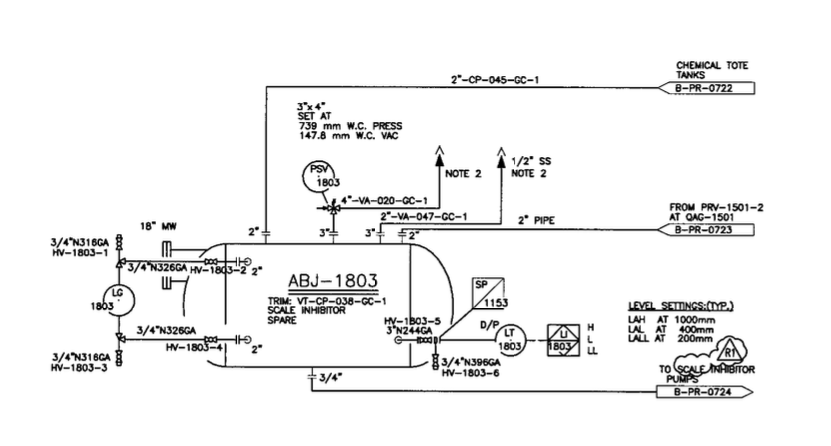Instrument-offset: (89, 283, 138, 318), (300, 156, 343, 193), (490, 318, 528, 358)
Instrument-square-offset: (544, 318, 583, 360)
